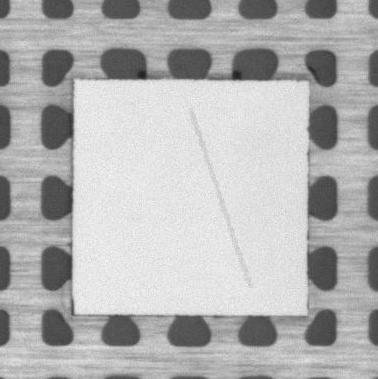DIE_CRACK: (190, 111, 249, 287)
